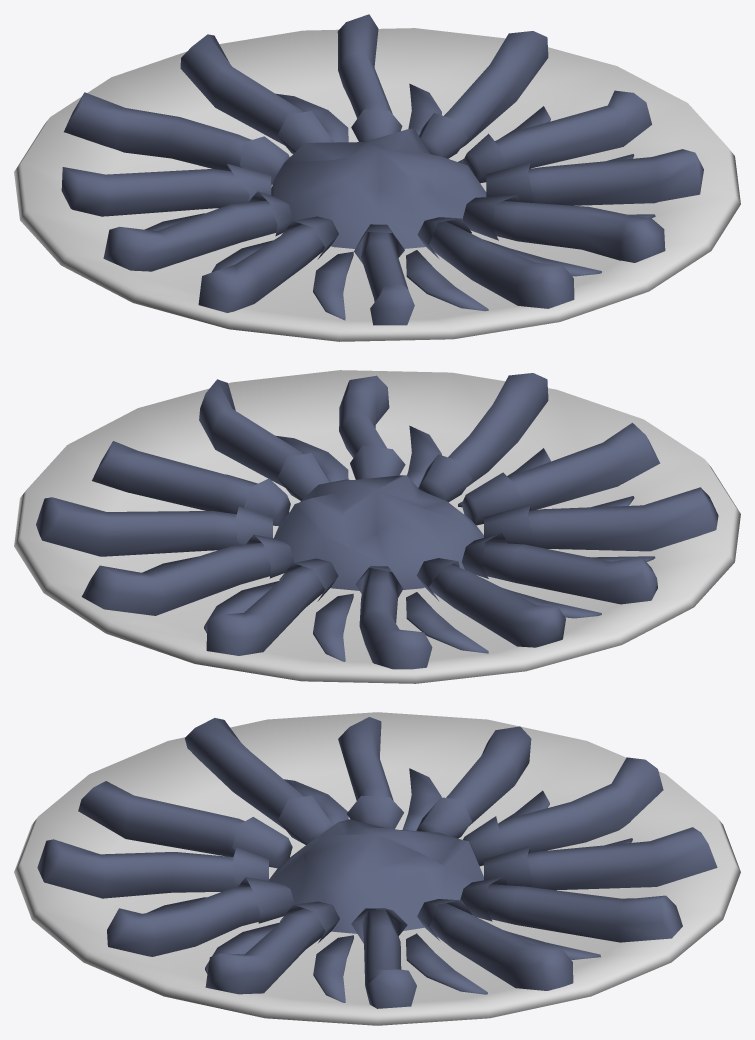
The model's file is ZCZH003.FBX.
3 renders of one model, top to bottom at view 1: azimuth 30°, elevation 25°; view 2: azimuth 150°, elevation 25°; view 3: azimuth 270°, elevation 25°, orthographic.
Parts seen in each view (by area): view 1: ZCZH003; view 2: ZCZH003; view 3: ZCZH003.
Part boxes in pixels (x1,y1,x2,y2): ZCZH003: [14, 14, 740, 341]; ZCZH003: [14, 370, 740, 683]; ZCZH003: [14, 712, 740, 1025].
Bounding box in the file's own units: 666 × 80.33 × 666.
